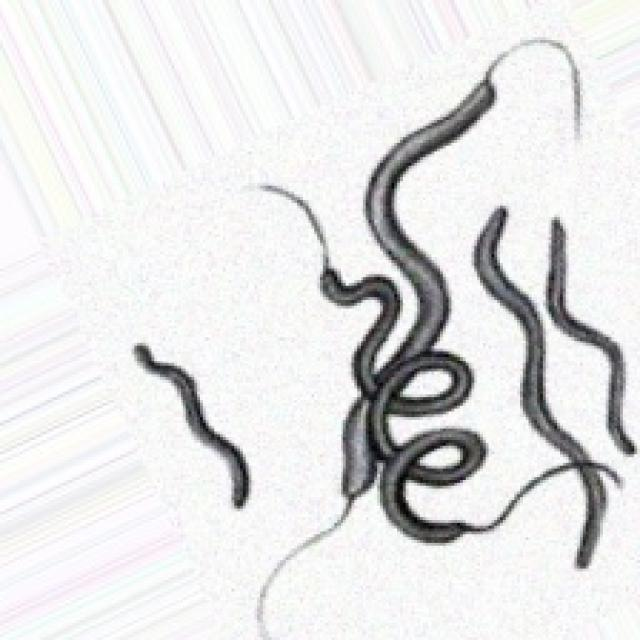Spiral_bacteria: (249, 34, 637, 637)
